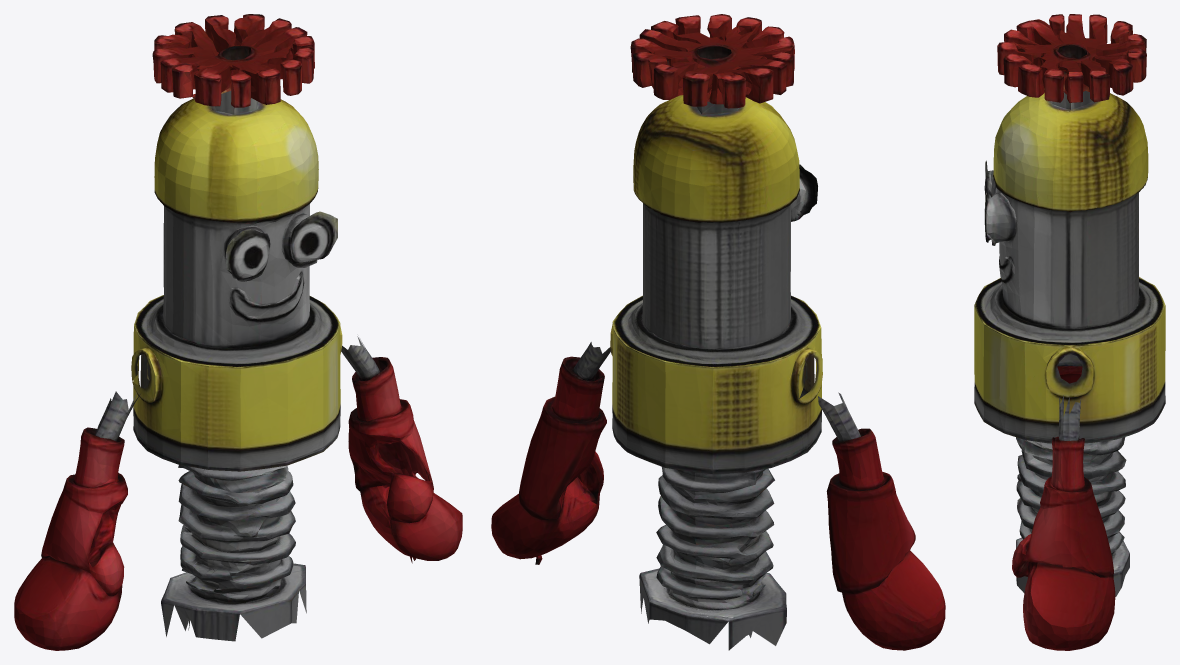
The model's file is duncan.glb.
The picture shows the model from 3 angles, left to right: view 1: azimuth 30°, elevation 25°; view 2: azimuth 150°, elevation 25°; view 3: azimuth 270°, elevation 25°; orthographic projection. The views are drawn at different scales.
Bounding box in the file's own units: 1.95 × 2.45 × 0.7895.
1 material, 1 textured.
